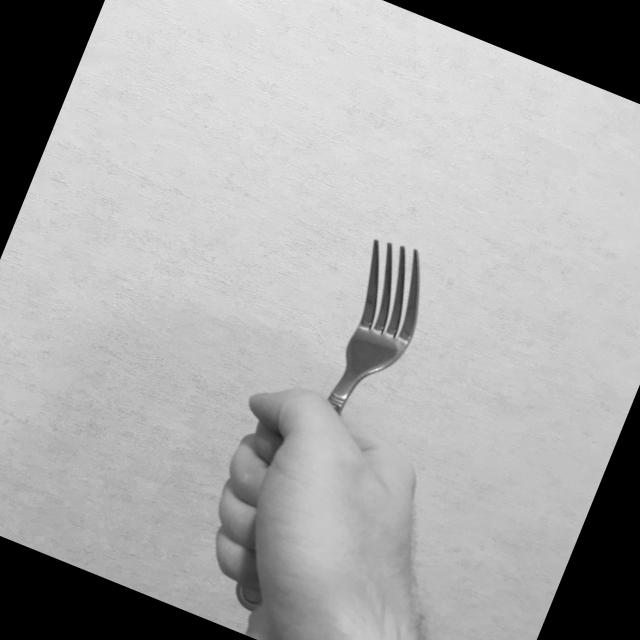fork: (214, 228, 447, 640)
